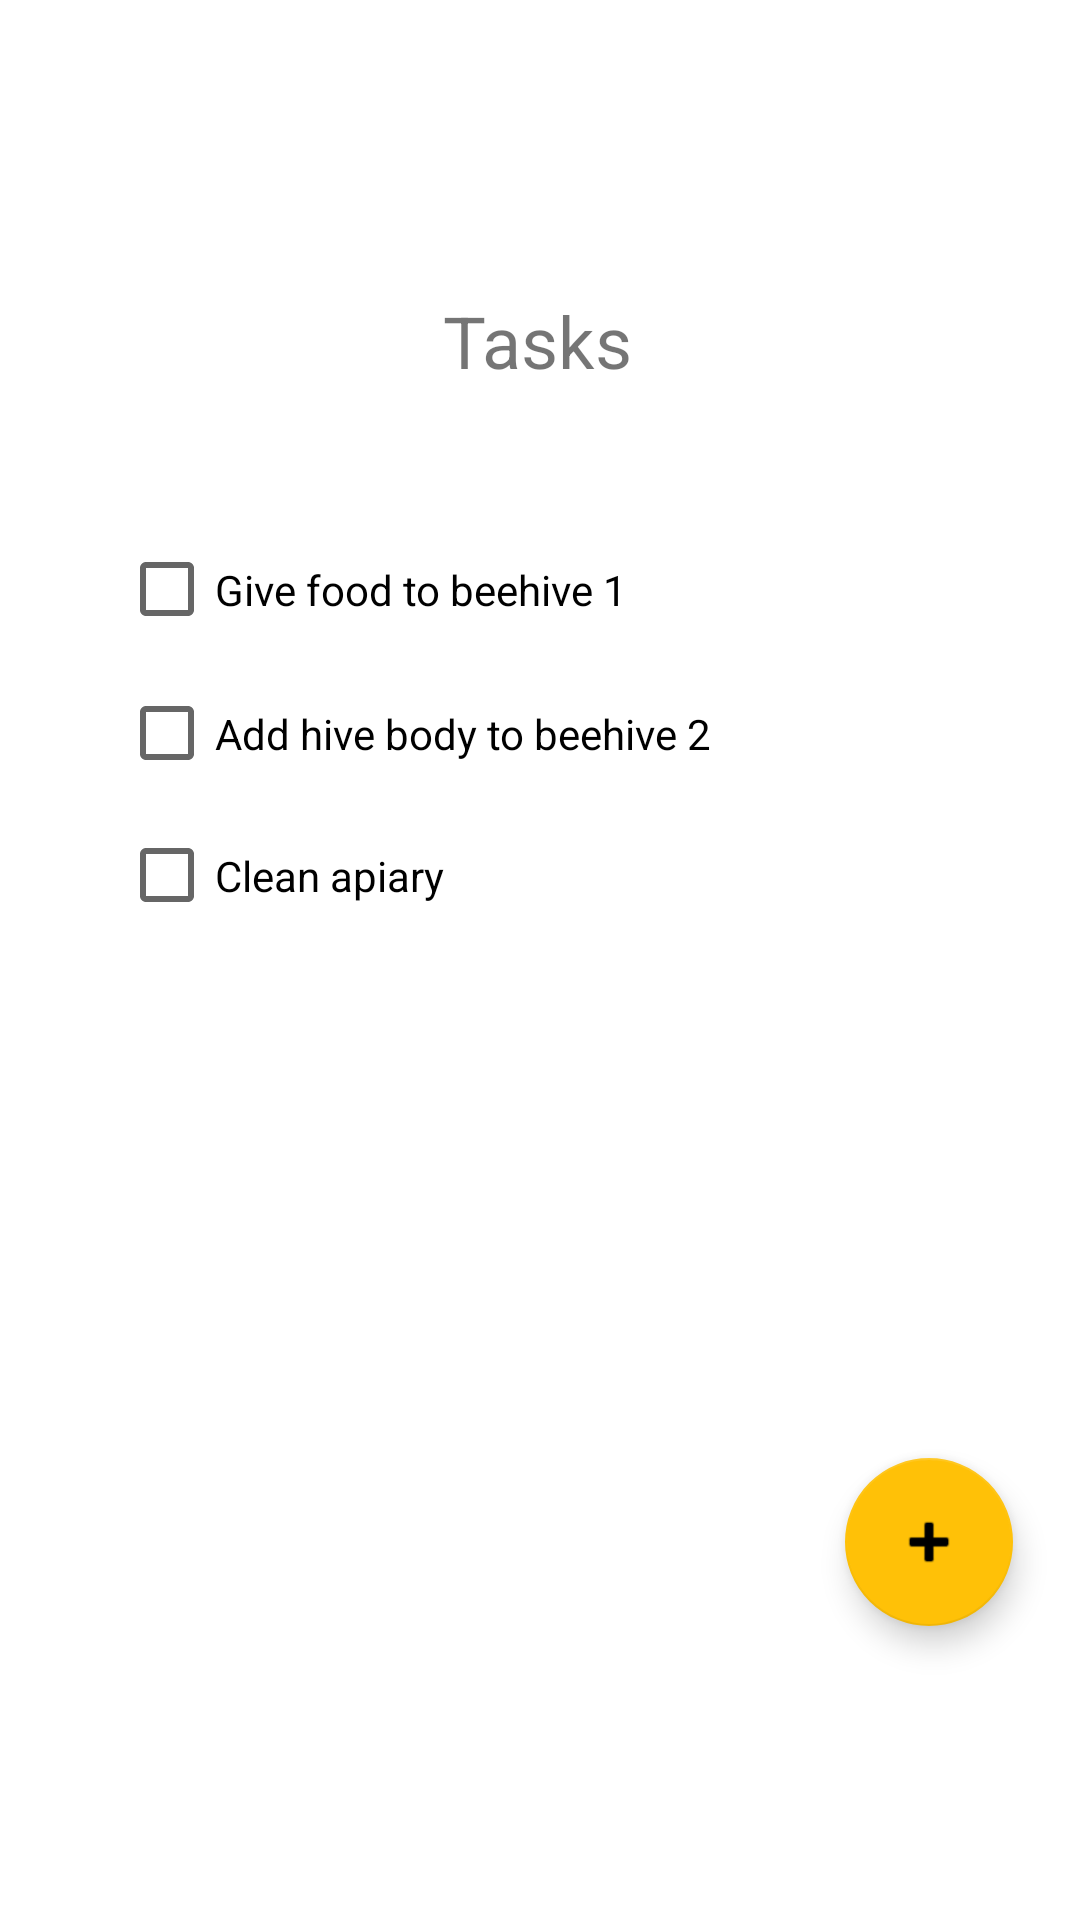

Where icons sit on this 1080*1920 app screen, as (x1=x1, y1=y1, x2=x2, y2=y2):
add: (x1=845, y1=1458, x2=1013, y2=1626)
